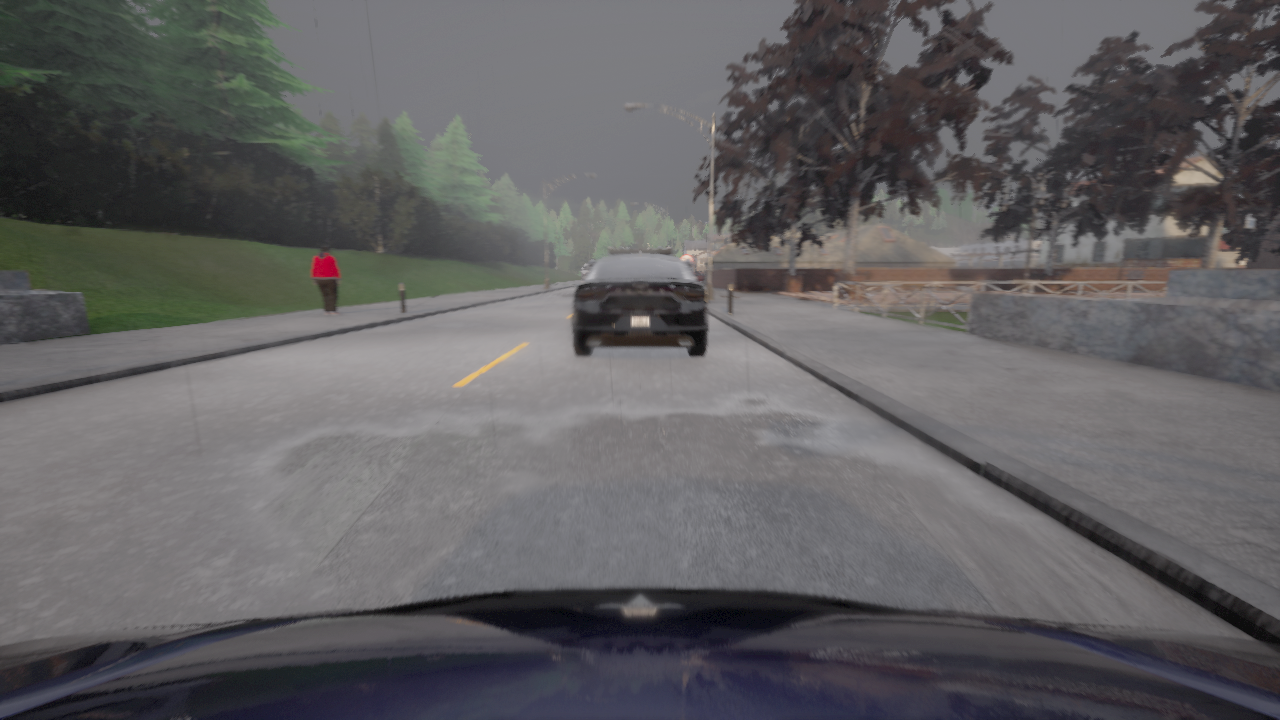cyclist: (0, 588, 1279, 719), (572, 248, 707, 356), (579, 264, 590, 282), (690, 271, 703, 282)
pedestrian: (310, 246, 340, 315)
